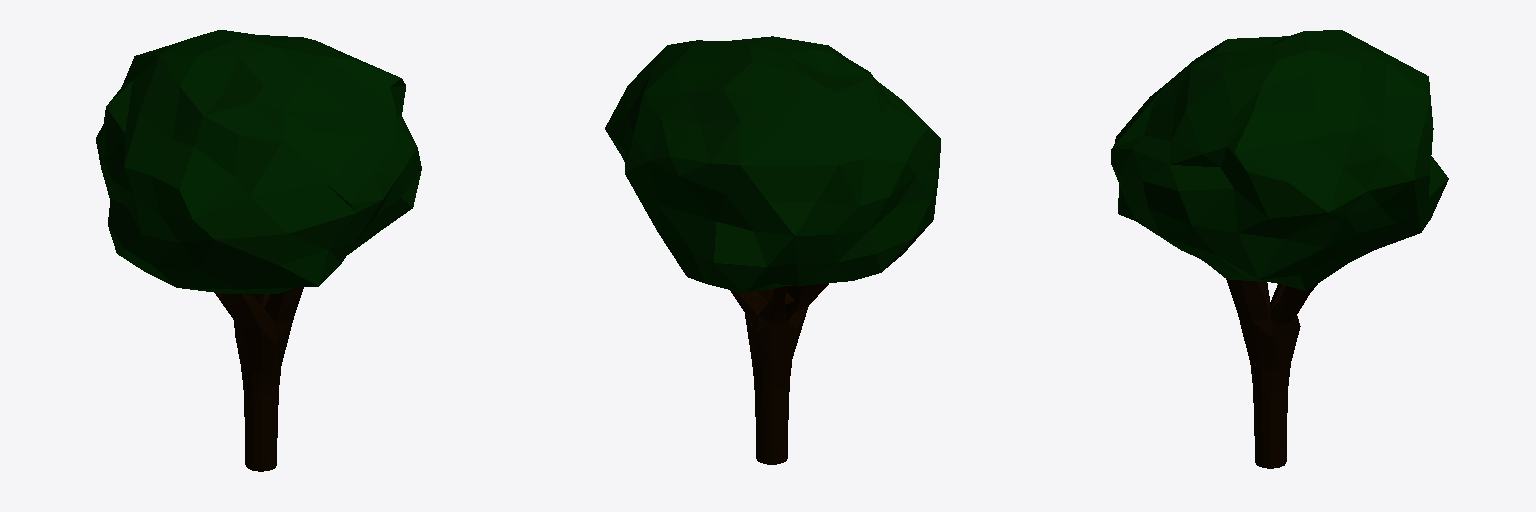
File: SmallOakTree.obj
3 views of the same model, side by side, from view 1: azimuth 30°, elevation 25°; view 2: azimuth 150°, elevation 25°; view 3: azimuth 270°, elevation 25° (orthographic).
Visible parts, largest first — view 1: Small_Oak_Tree.001_Circle.046; view 2: Small_Oak_Tree.001_Circle.046; view 3: Small_Oak_Tree.001_Circle.046.
Boxes of the visible parts, x1,y1,x2,y2 form: Small_Oak_Tree.001_Circle.046: [96, 30, 421, 471]; Small_Oak_Tree.001_Circle.046: [605, 36, 940, 464]; Small_Oak_Tree.001_Circle.046: [1111, 30, 1448, 468].
Size of the model in its own units: 11.29 by 15.96 by 11.89.